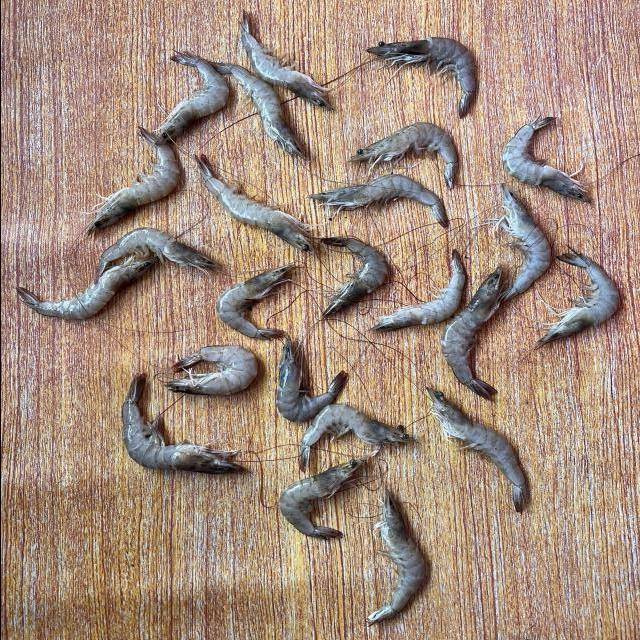shrimp: (426, 388, 527, 513), (121, 375, 244, 475), (194, 155, 315, 254), (86, 125, 178, 234), (207, 60, 306, 159), (240, 11, 332, 109), (366, 36, 476, 117), (15, 257, 157, 319), (441, 267, 501, 400), (366, 490, 424, 627), (299, 404, 415, 472), (538, 250, 619, 347), (370, 250, 465, 331), (502, 116, 590, 202), (308, 174, 448, 227), (488, 183, 551, 300), (350, 122, 457, 188), (278, 460, 363, 540), (155, 52, 228, 143), (94, 227, 219, 280), (275, 338, 347, 423), (215, 264, 294, 340), (320, 237, 387, 318), (165, 346, 257, 395)
